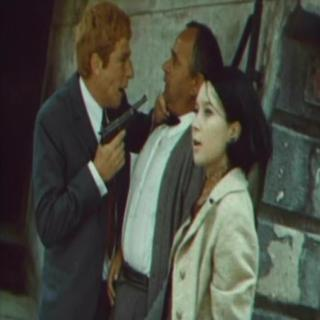gun: (94, 84, 148, 162)
